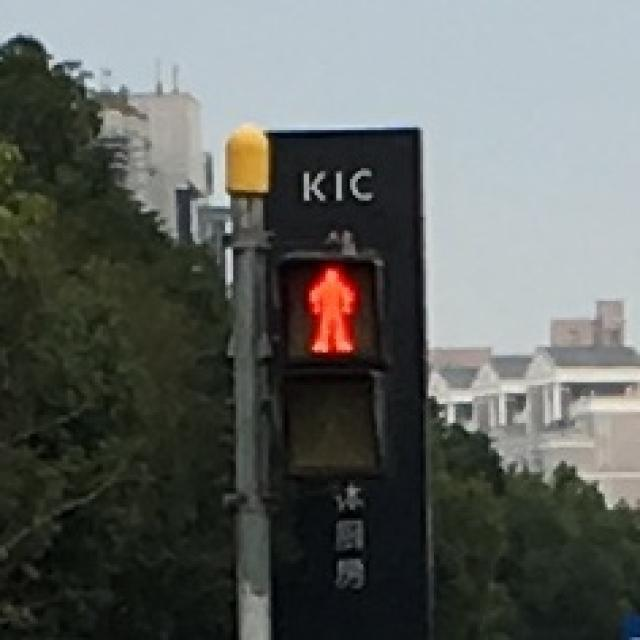red-crossing: (284, 256, 374, 354)
